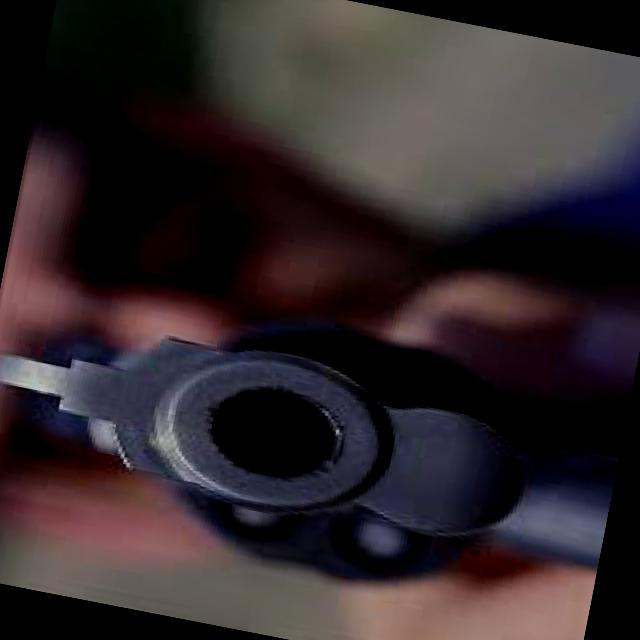handgun: (0, 259, 625, 632)
